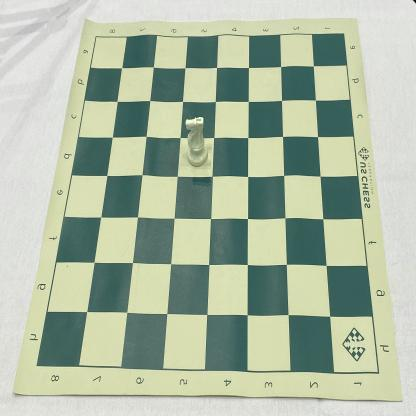white-knight: (185, 116, 209, 168)
